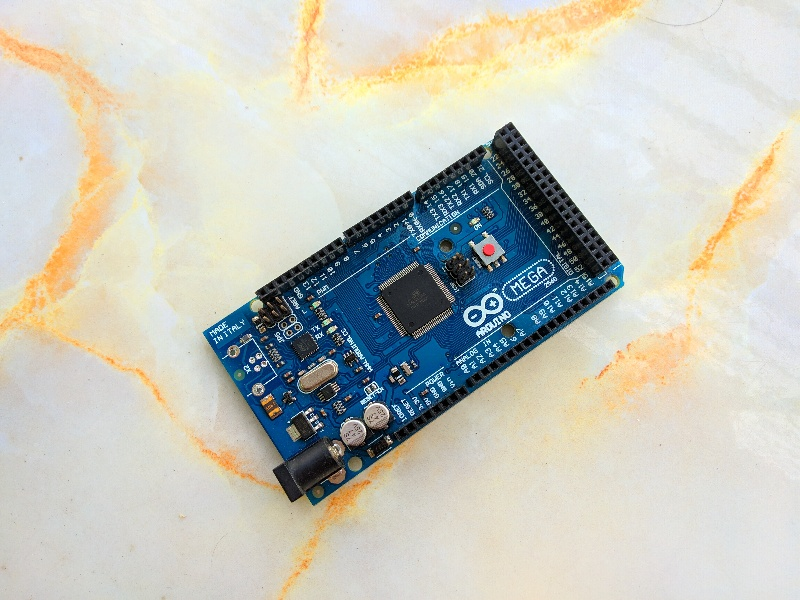Arduino Mega 2560: (198, 113, 632, 519)
